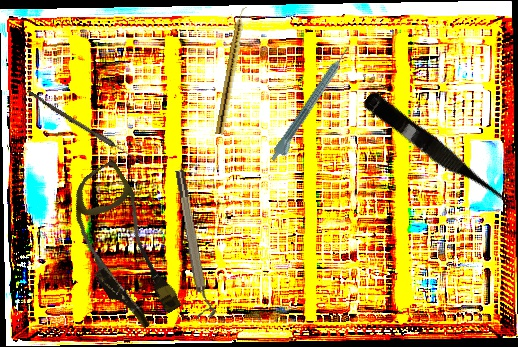Cannula: (47, 159, 199, 336)
Fixation Ring: (172, 168, 217, 320)
Handpiece: (268, 45, 357, 166), (215, 5, 249, 136)
Micro Scissor: (358, 89, 517, 217)
Surgical Spoon: (25, 89, 147, 167)
